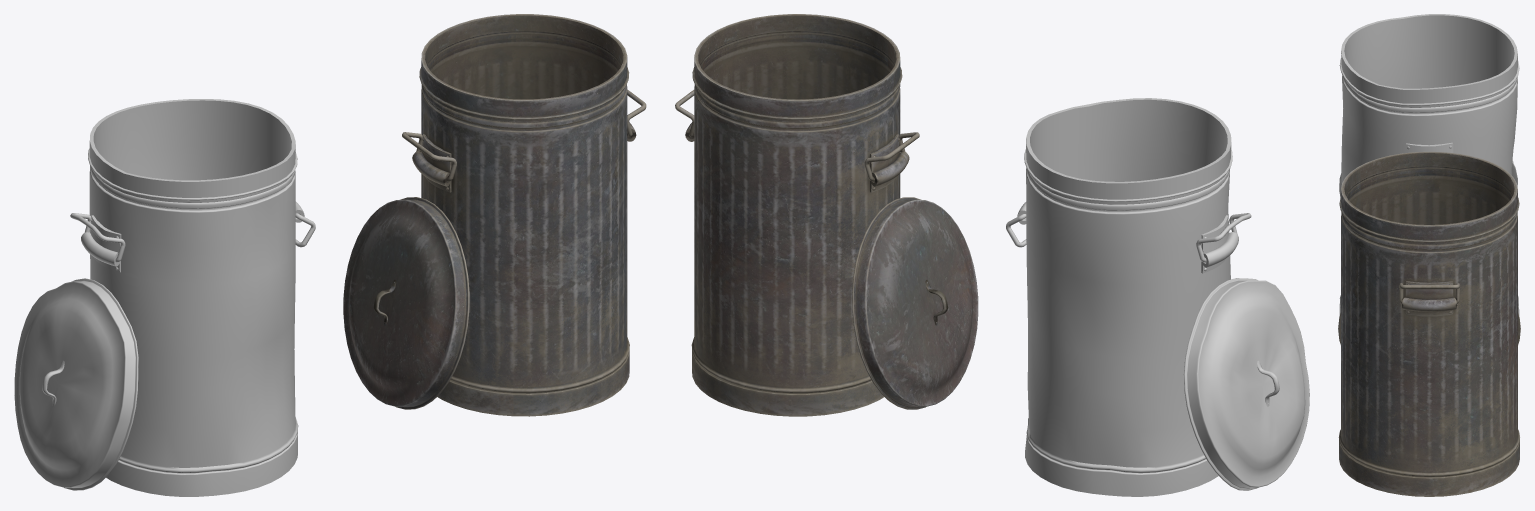
3 views of the same model, side by side, from view 1: azimuth 30°, elevation 25°; view 2: azimuth 150°, elevation 25°; view 3: azimuth 270°, elevation 25° (orthographic). The views are drawn at different scales.
Parts seen in each view (by area): view 1: metal_trash_can, metal_trash_can_rust, metal_trash_can_lid, metal_trash_can_rust_lid; view 2: metal_trash_can, metal_trash_can_rust, metal_trash_can_lid, metal_trash_can_rust_lid; view 3: metal_trash_can, metal_trash_can_rust, metal_trash_can_handle_right.
Boxes of the visible parts, x1,y1,x2,y2 form: metal_trash_can: (412, 14, 636, 416); metal_trash_can_rust: (81, 99, 304, 496); metal_trash_can_lid: (343, 197, 469, 409); metal_trash_can_rust_lid: (14, 278, 138, 490); metal_trash_can: (685, 14, 909, 416); metal_trash_can_rust: (1017, 98, 1238, 496); metal_trash_can_lid: (852, 197, 978, 409); metal_trash_can_rust_lid: (1183, 278, 1309, 490); metal_trash_can: (1338, 151, 1519, 496); metal_trash_can_rust: (1339, 14, 1519, 316); metal_trash_can_handle_right: (1399, 283, 1459, 303).
Bounding box in the file's own units: 178 × 90.62 × 55.63.
